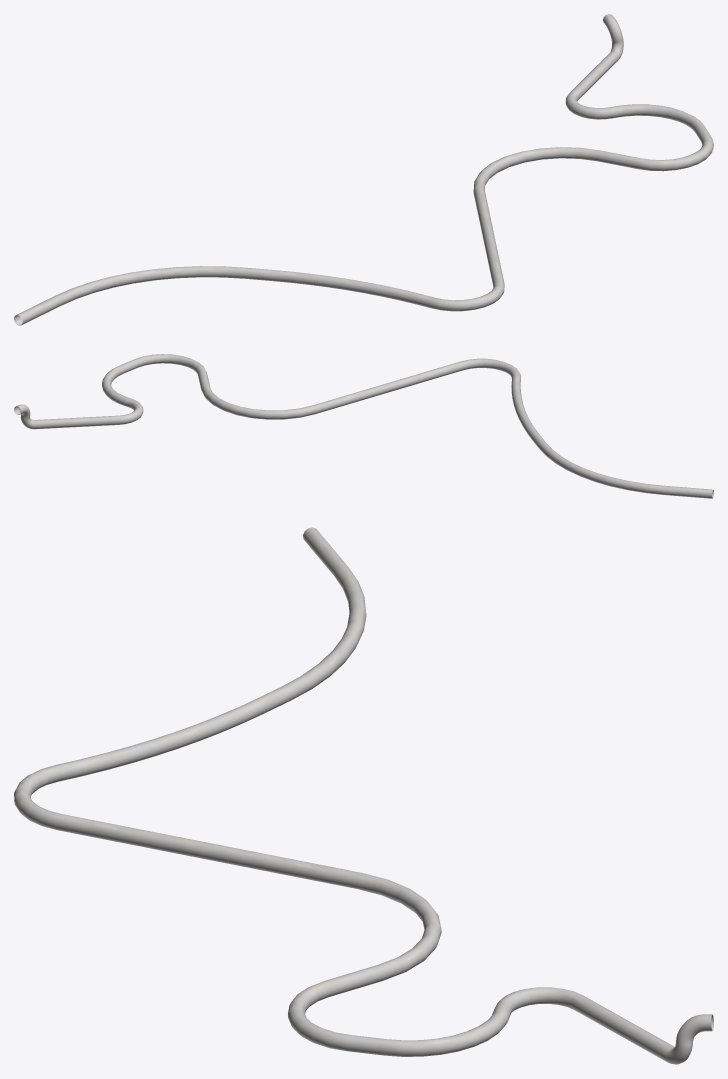
The model's file is Pipe__13.fbx.
3 views of the same model, one above another, from view 1: azimuth 30°, elevation 25°; view 2: azimuth 150°, elevation 25°; view 3: azimuth 270°, elevation 25° (orthographic). The views are drawn at different scales.
Visible parts, largest first — view 1: Pipe_Dark; view 2: Pipe_Dark; view 3: Pipe_Dark.
Boxes of the visible parts, box(x1,y1,x2,y2) form: Pipe_Dark: box(14, 14, 713, 325); Pipe_Dark: box(14, 354, 713, 498); Pipe_Dark: box(14, 527, 713, 1064).
Size of the model in its own units: 5.84 by 0.2728 by 3.26.
1 material, 1 textured.
